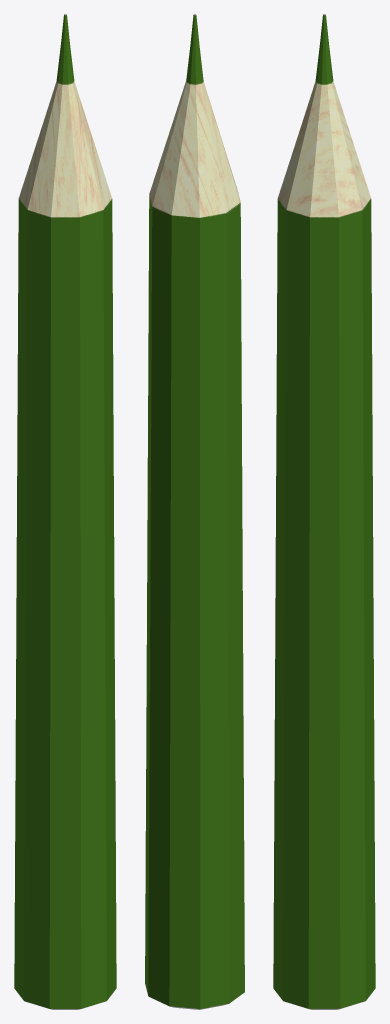
File: lapis_TEXTURIZADO_VERDE.fbx
3 renders of one model, left to right at view 1: azimuth 90°, elevation 25°; view 2: azimuth 150°, elevation 25°; view 3: azimuth 270°, elevation 25°, orthographic.
Parts seen in each view (by area): view 1: verde; view 2: verde; view 3: verde.
Part boxes in pixels (x1,y1,x2,y2): verde: [14, 14, 116, 1009]; verde: [145, 14, 244, 1009]; verde: [273, 14, 375, 1009].
Bounding box in the file's own units: 1.55 × 17.18 × 1.63.
Materials: 1 (1 with a texture image).
